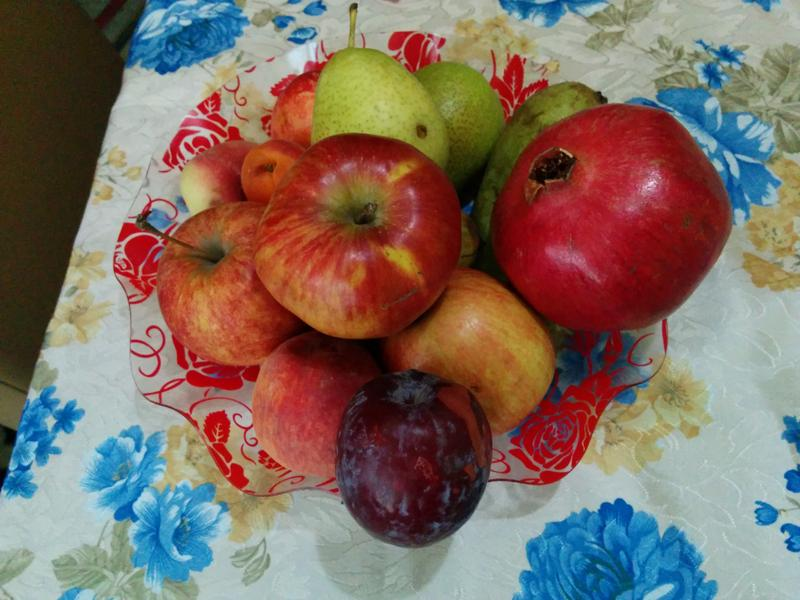apple: (253, 132, 468, 345)
